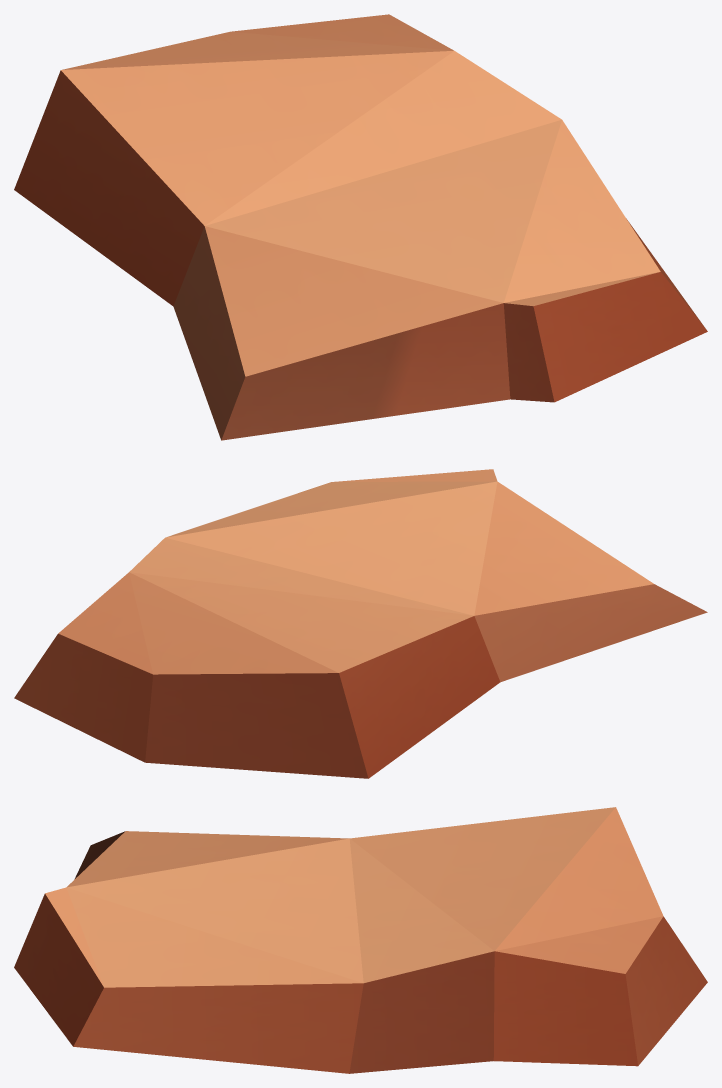
File: DesertPlatform_02.fbx
3 views of the same model, one above another, from view 1: azimuth 30°, elevation 25°; view 2: azimuth 150°, elevation 25°; view 3: azimuth 270°, elevation 25° (orthographic). The views are drawn at different scales.
Visible parts, largest first — view 1: DesertPlatform_02; view 2: DesertPlatform_02; view 3: DesertPlatform_02.
Boxes of the visible parts, x1,y1,x2,y2 form: DesertPlatform_02: (14, 14, 707, 440); DesertPlatform_02: (14, 469, 707, 778); DesertPlatform_02: (14, 807, 707, 1073).
Size of the model in its own units: 1860 by 374 by 2387.
